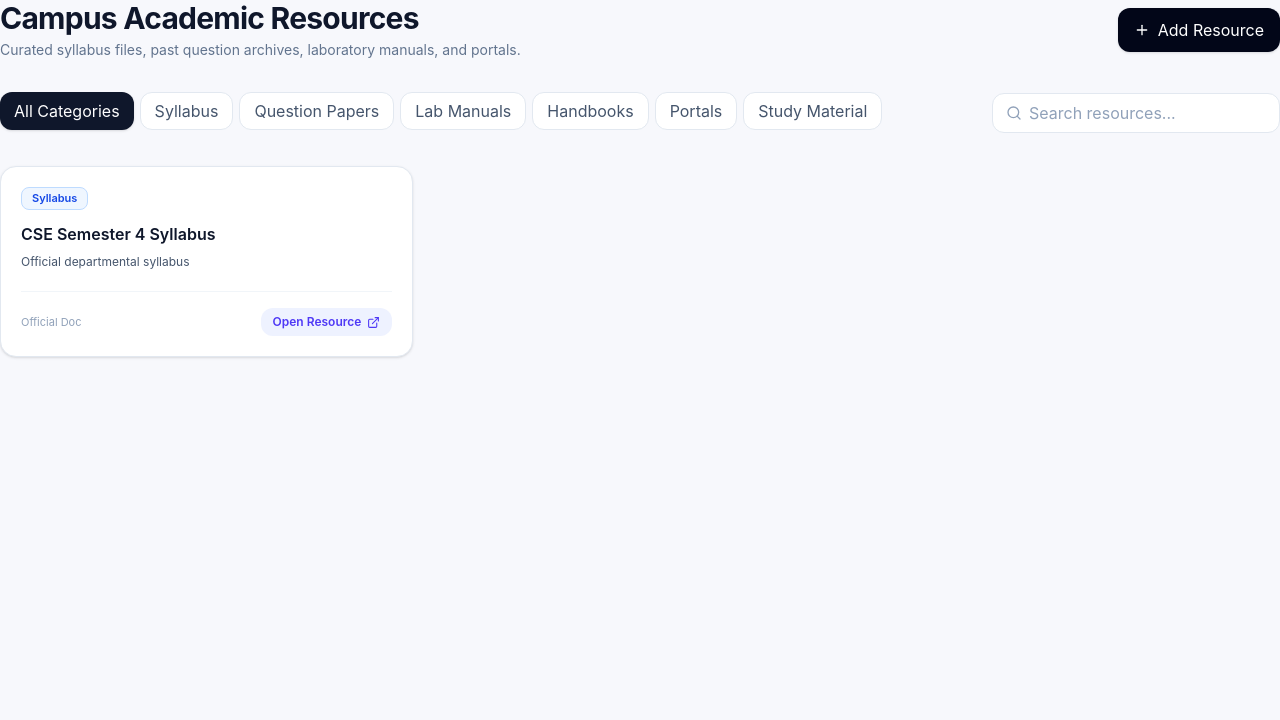
Test case: Phase 6 Frontend Components › Resources Page › allows administrators to see Add Resource button and open modal
Click the button "Add Resource" at (1199, 30), box [1118,8,1279,52]
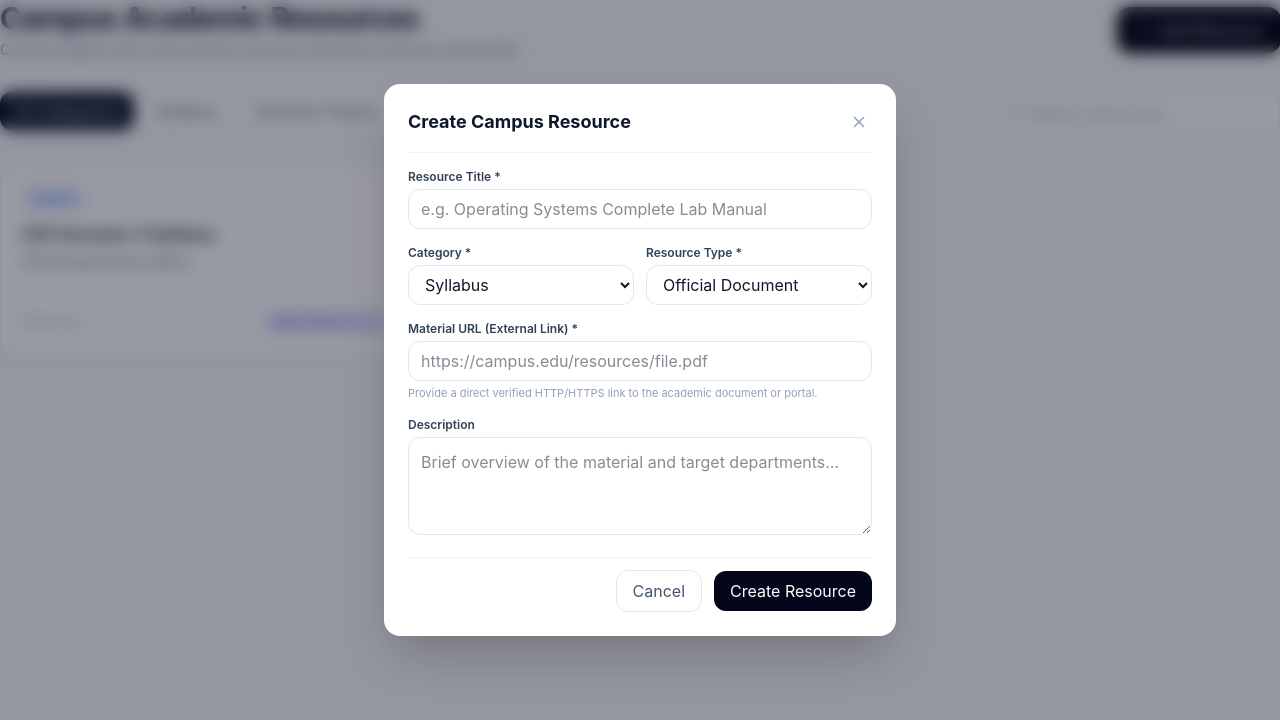
Now the heading "Create Campus Resource" is shown, box [408,108,631,136]
